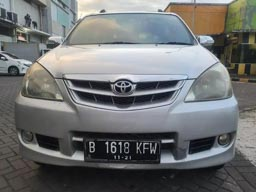plat: (81, 140, 158, 155)
